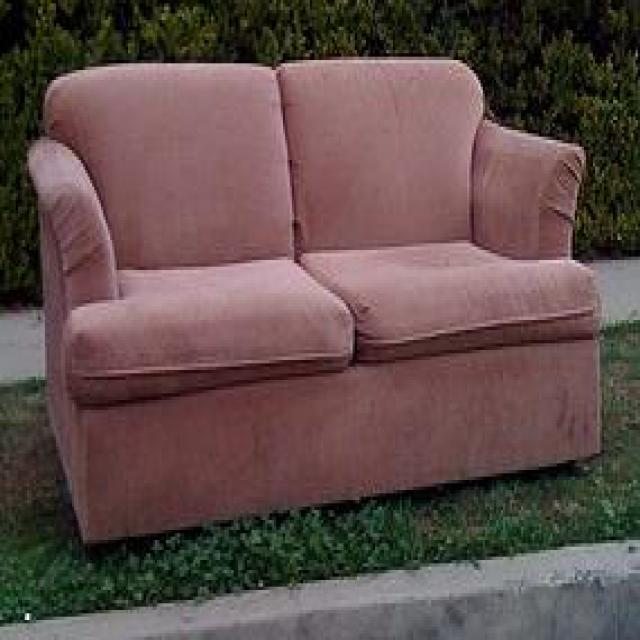sofa: (25, 53, 604, 550)
